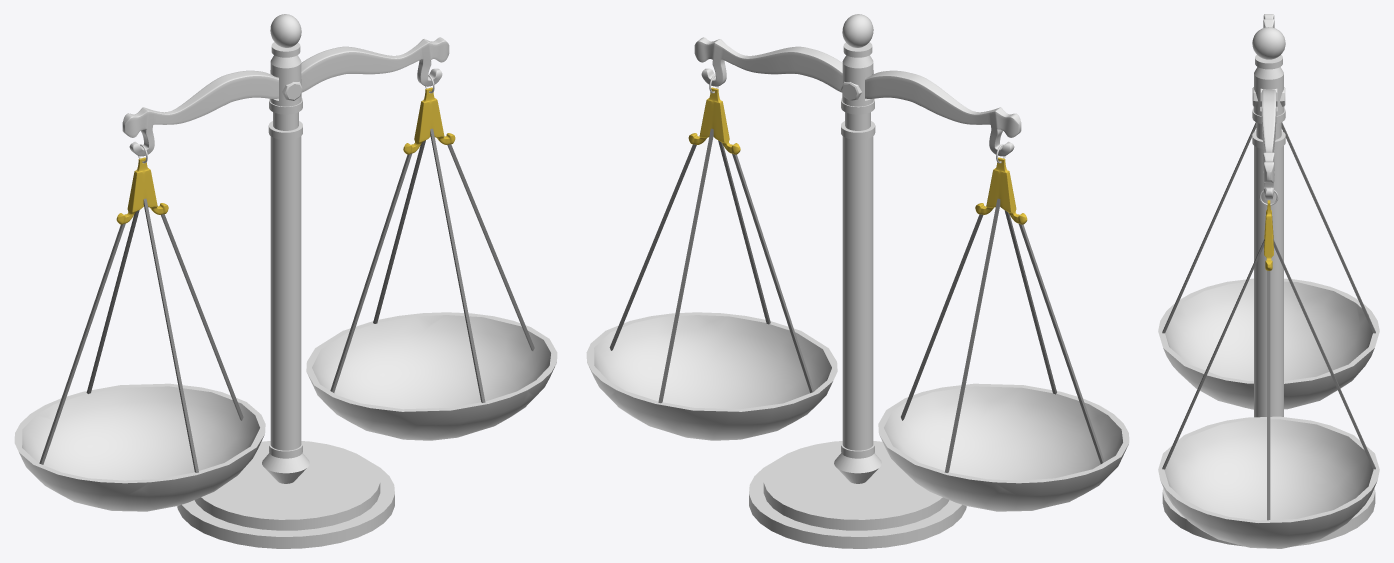
Rendered from themis.fbx.
3 renders of one model, left to right at view 1: azimuth 30°, elevation 25°; view 2: azimuth 150°, elevation 25°; view 3: azimuth 270°, elevation 25°, orthographic. The views are drawn at different scales.
Visible parts, largest first — view 1: Sphere.001, Cylinder, Sphere.002, Cube, Cube.001, Cylinder.001, Sphere; view 2: Sphere.001, Cylinder, Sphere.002, Cube, Cube.001, Cylinder.001, Sphere; view 3: Sphere.001, Cylinder, Sphere.002, Cube, Sphere, Cylinder.001, Cube.001.
Boxes of the visible parts, x1=… form: Sphere.001: x1=14, y1=312, x2=557, y2=511; Cylinder: x1=177, y1=42, x2=394, y2=548; Sphere.002: x1=39, y1=128, x2=534, y2=472; Cube: x1=122, y1=37, x2=449, y2=156; Cube.001: x1=116, y1=87, x2=455, y2=224; Cylinder.001: x1=270, y1=63, x2=302, y2=106; Sphere: x1=270, y1=14, x2=301, y2=47; Sphere.001: x1=586, y1=312, x2=1129, y2=511; Cylinder: x1=749, y1=42, x2=966, y2=548; Sphere.002: x1=609, y1=128, x2=1104, y2=472; Cube: x1=694, y1=37, x2=1021, y2=156; Cube.001: x1=688, y1=87, x2=1027, y2=224; Cylinder.001: x1=841, y1=63, x2=873, y2=106; Sphere: x1=842, y1=14, x2=873, y2=47; Sphere.001: x1=1158, y1=278, x2=1379, y2=548; Cylinder: x1=1162, y1=55, x2=1375, y2=546; Sphere.002: x1=1162, y1=122, x2=1375, y2=520; Cube: x1=1261, y1=14, x2=1276, y2=199; Sphere: x1=1252, y1=27, x2=1285, y2=59; Cylinder.001: x1=1252, y1=74, x2=1285, y2=115; Cube.001: x1=1264, y1=200, x2=1273, y2=270.
Size of the model in its own units: 513 by 463 by 196.
